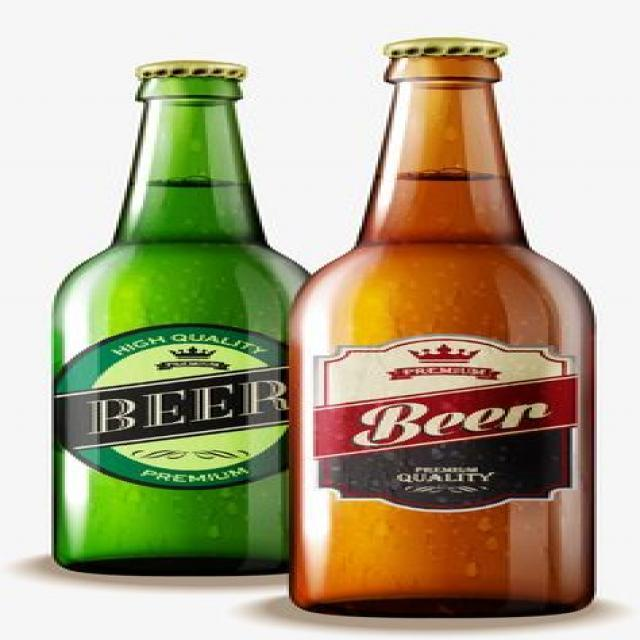BotolKaca: (285, 34, 597, 619), (49, 58, 311, 576)
